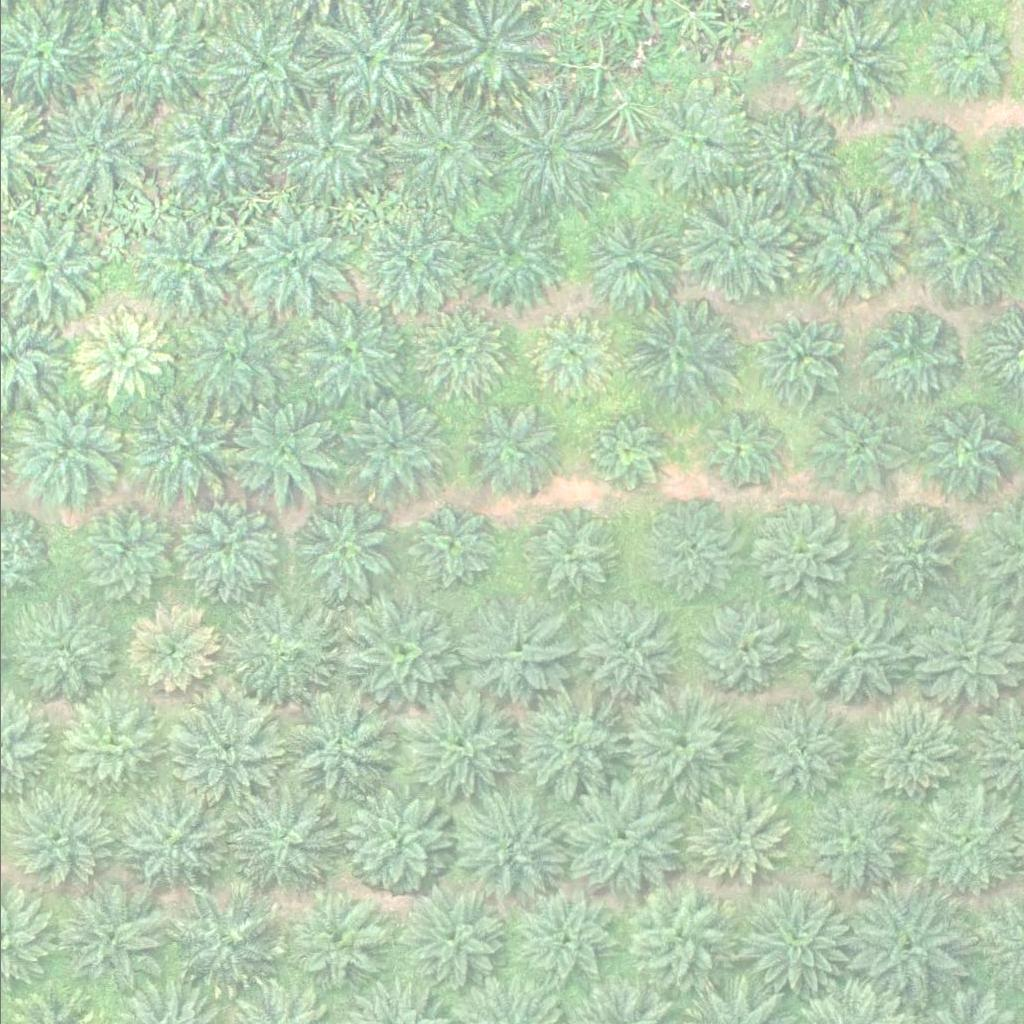Kelapa_Sawit: (793, 3, 907, 116), (454, 200, 568, 313), (349, 205, 463, 318), (295, 297, 409, 410), (169, 303, 283, 416), (224, 395, 338, 508), (623, 878, 737, 991), (1, 392, 115, 505), (848, 891, 961, 1004), (736, 884, 849, 997), (796, 593, 909, 706), (684, 591, 797, 704), (909, 201, 1022, 314), (207, 9, 320, 122), (571, 592, 684, 705), (458, 598, 571, 711), (344, 598, 457, 711), (403, 688, 516, 801), (277, 690, 390, 803), (167, 693, 280, 806), (114, 785, 227, 898), (127, 393, 240, 506), (682, 185, 796, 297), (732, 102, 846, 214), (491, 99, 605, 211), (387, 95, 501, 207), (236, 208, 350, 320), (908, 789, 1021, 901), (795, 787, 908, 899), (793, 194, 906, 306), (314, 5, 427, 117), (618, 301, 731, 413), (222, 599, 335, 711), (625, 684, 738, 796), (509, 687, 622, 799), (565, 786, 678, 898), (453, 792, 566, 904), (341, 786, 454, 898), (228, 781, 341, 893), (398, 885, 511, 997), (168, 882, 281, 994), (55, 883, 168, 995), (31, 92, 144, 204), (688, 790, 789, 890), (856, 698, 957, 798), (750, 703, 851, 803), (860, 500, 961, 600), (913, 401, 1014, 501), (864, 304, 965, 404), (867, 111, 968, 211), (280, 100, 381, 200), (167, 95, 268, 195), (580, 213, 681, 313), (464, 403, 565, 503), (339, 398, 440, 498), (514, 504, 615, 604), (291, 497, 392, 597), (287, 894, 388, 994), (12, 787, 113, 887), (61, 698, 162, 798), (75, 505, 176, 605), (15, 607, 116, 707), (745, 501, 845, 601), (641, 501, 741, 601), (809, 399, 909, 499), (644, 91, 744, 191), (176, 497, 276, 597), (510, 889, 610, 989), (136, 211, 236, 311), (924, 15, 1012, 103), (524, 310, 612, 398), (584, 411, 672, 499), (408, 501, 496, 589), (127, 605, 215, 693), (755, 312, 843, 399), (419, 310, 507, 397), (82, 312, 170, 399), (701, 411, 777, 486)
